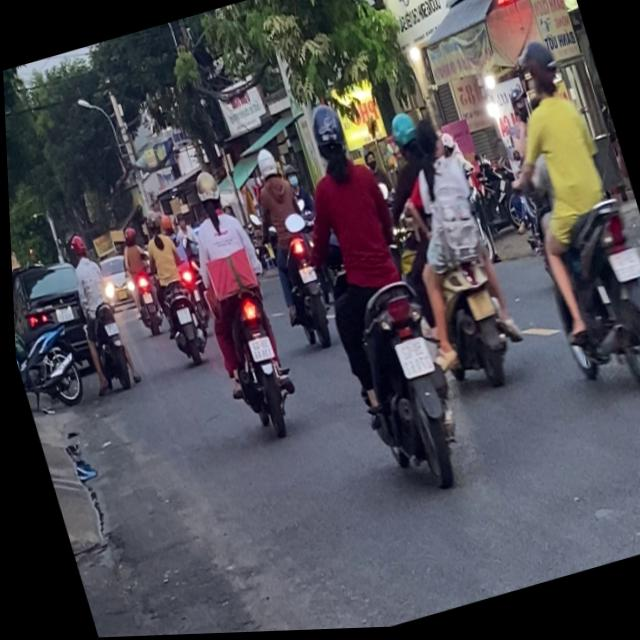helmet: (302, 99, 355, 176), (515, 37, 567, 109), (385, 110, 424, 164), (190, 168, 224, 218), (251, 146, 281, 185), (67, 231, 88, 260)
licenseplate: (269, 87, 478, 509), (477, 26, 640, 414), (367, 94, 535, 406), (165, 160, 308, 447), (237, 140, 342, 355), (52, 226, 138, 398)
motorcyclist: (411, 117, 443, 163)
nohelmet: (390, 337, 432, 382), (605, 249, 640, 287), (463, 292, 493, 324), (243, 335, 271, 364), (296, 266, 315, 285), (101, 320, 116, 337)
